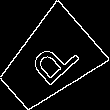P_SW: (18, 31, 79, 92)
